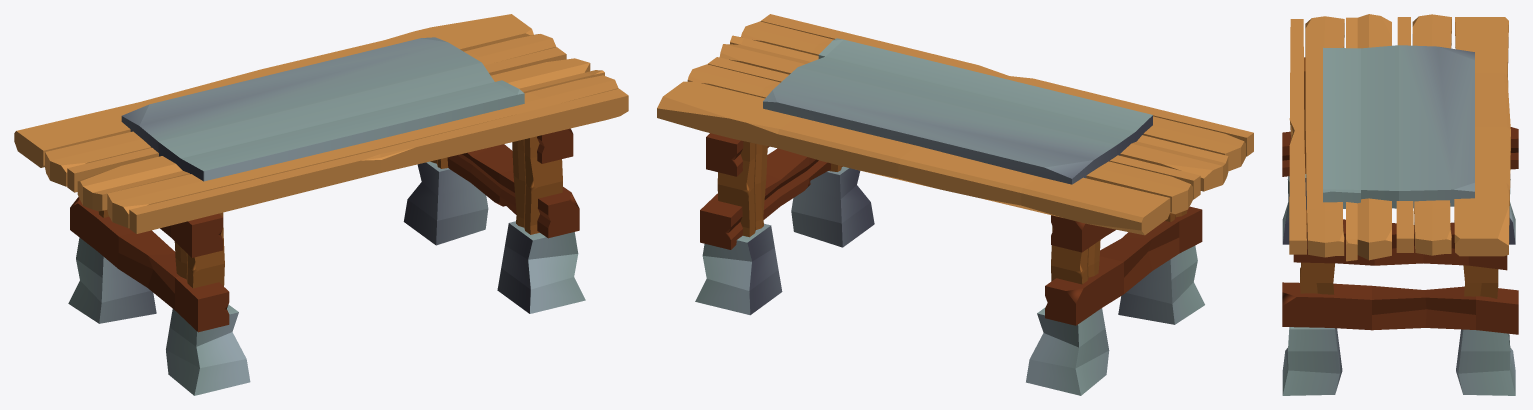
Rendered from Cutting Board.fbx.
3 views of the same model, side by side, from view 1: azimuth 30°, elevation 25°; view 2: azimuth 150°, elevation 25°; view 3: azimuth 270°, elevation 25° (orthographic). The views are drawn at different scales.
Parts seen in each view (by area): view 1: Cube.016, Cube.003, Cube.002, Cube.008, Cube.001, Cube.012, Cube.014, Cube, Cube.013, Cube.009, Cube.015, Cube.004 (+3 smaller); view 2: Cube.016, Cube.002, Cube.003, Cube.008, Cube.001, Cube.013, Cube.015, Cube, Cube.012, Cube.009, Cube.014, Cube.005 (+3 smaller); view 3: Cube.016, Cube.002, Cube.009, Cube.003, Cube.001, Cube, Cube.012, Cube.013, Cube.011, Cube.004, Cube.005, Cube.008 (+3 smaller).
Part boxes in pixels (x1=…): Cube.016: x1=121, y1=37, x2=524, y2=181; Cube.003: x1=107, y1=75, x2=628, y2=233; Cube.002: x1=14, y1=14, x2=533, y2=167; Cube.008: x1=70, y1=197, x2=229, y2=332; Cube.001: x1=45, y1=34, x2=566, y2=192; Cube.012: x1=497, y1=221, x2=585, y2=313; Cube.014: x1=166, y1=304, x2=250, y2=395; Cube: x1=77, y1=58, x2=604, y2=211; Cube.013: x1=403, y1=161, x2=488, y2=245; Cube.009: x1=447, y1=144, x2=579, y2=238; Cube.015: x1=68, y1=237, x2=156, y2=323; Cube.004: x1=512, y1=136, x2=562, y2=234; Cube.016: x1=763, y1=38, x2=1152, y2=184; Cube.002: x1=657, y1=81, x2=1170, y2=235; Cube.003: x1=741, y1=14, x2=1253, y2=171; Cube.008: x1=1045, y1=206, x2=1202, y2=325; Cube.001: x1=687, y1=57, x2=1200, y2=214; Cube.013: x1=695, y1=223, x2=782, y2=315; Cube.015: x1=1026, y1=307, x2=1109, y2=395; Cube: x1=719, y1=35, x2=1228, y2=191; Cube.012: x1=791, y1=166, x2=874, y2=247; Cube.009: x1=700, y1=148, x2=831, y2=249; Cube.014: x1=1118, y1=246, x2=1204, y2=324; Cube.005: x1=717, y1=141, x2=767, y2=237; Cube.016: x1=1323, y1=45, x2=1474, y2=208; Cube.002: x1=1454, y1=17, x2=1510, y2=256; Cube.009: x1=1282, y1=282, x2=1518, y2=334; Cube.003: x1=1289, y1=16, x2=1344, y2=257; Cube.001: x1=1396, y1=14, x2=1451, y2=255; Cube: x1=1346, y1=14, x2=1391, y2=261; Cube.012: x1=1282, y1=327, x2=1342, y2=395; Cube.013: x1=1456, y1=329, x2=1515, y2=395; Cube.011: x1=1293, y1=219, x2=1507, y2=270; Cube.004: x1=1300, y1=209, x2=1334, y2=294; Cube.005: x1=1463, y1=265, x2=1498, y2=298; Cube.008: x1=1282, y1=127, x2=1518, y2=176.
Bounding box in the file's own units: 1039 × 393 × 452.
